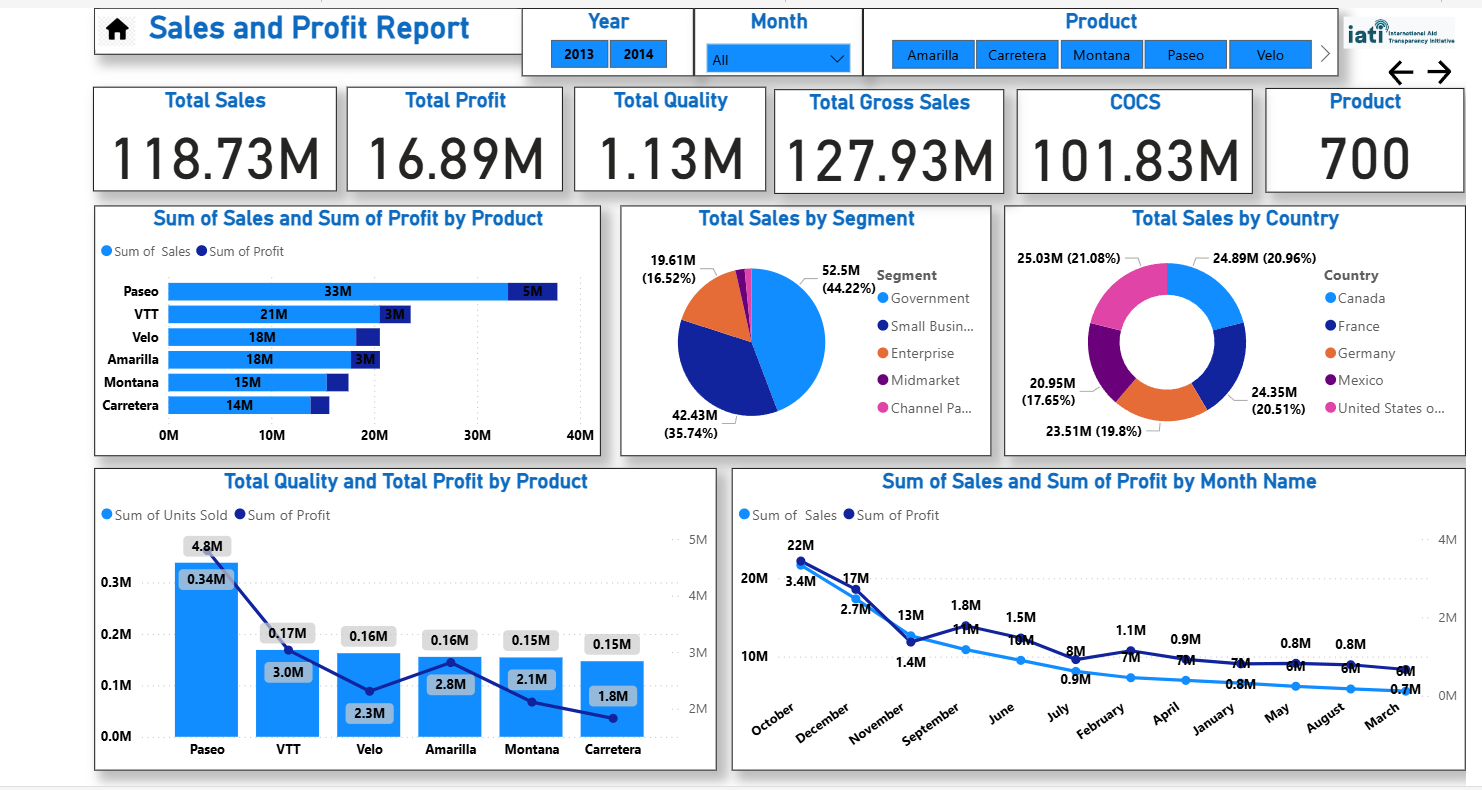

The dashboard page shown, as its layout file describes it:
{"tool":"powerbi","page":{"name":"Q9. Dashboard","canvas":[1280,720],"ordinal":9},"visuals":[{"type":"textbox","title":"Sales and Profit Report","box":[10.1,0,396.8,43.3],"z":0},{"type":"slicer","title":"Year","fields":{"Values":["financials.Year"]},"box":[406.3,0,159.4,63.5],"z":1000},{"type":"slicer","title":"Month","fields":{"Values":["financials.Month Name"]},"box":[565.7,0,155.8,63.5],"z":2000},{"type":"slicer","title":"Product","fields":{"Values":["financials.Product"]},"box":[721.5,0,439.9,63.5],"z":3000},{"type":"card","title":"Total Sales","fields":{"Values":["Sum(financials. Sales)"]},"box":[9.6,73.1,225.3,97.1],"z":4000},{"type":"card","title":"Total Profit","fields":{"Values":["Sum(financials.Profit)"]},"box":[244.5,73.1,200.1,97.1],"z":5000},{"type":"card","title":"Total Quality","fields":{"Values":["Sum(financials.Units Sold)"]},"box":[454.2,73.1,177.4,97.1],"z":6000},{"type":"card","title":"Product","fields":{"Values":["CountNonNull(financials.Product)"]},"box":[1094.7,73.5,183.8,96.5],"z":7000},{"type":"card","title":"COCS","fields":{"Values":["Sum(financials.COGS)"]},"box":[864.1,75.5,218.1,97.1],"z":8000},{"type":"barChart","fields":{"Category":["financials.Product"],"Y":["Sum(financials. Sales)","Sum(financials.Profit)"]},"box":[10.1,183.2,468.9,232.3],"z":9000},{"type":"pieChart","title":"Total Sales by Segment","fields":{"Category":["financials.Segment"],"Y":["Sum(financials. Sales)"]},"box":[497.8,183.2,343.4,232.3],"z":10000},{"type":"donutChart","title":"Total Sales by  Country","fields":{"Y":["Sum(financials. Sales)"],"Series":["financials.Country"]},"box":[852.7,183.2,427.1,232.3],"z":11000},{"type":"lineStackedColumnComboChart","title":"Total Quality and Total Profit by Product","fields":{"Category":["financials.Product"],"Y2":["Sum(financials.Profit)"],"Y":["Sum(financials.Units Sold)"]},"box":[10.1,425.6,575.7,279.9],"z":12000},{"type":"lineChart","fields":{"Category":["financials.Month Name"],"Y":["Sum(financials. Sales)"],"Y2":["Sum(financials.Profit)"]},"box":[600.2,425.6,679.5,279.9],"z":13000},{"type":"card","title":"Total Gross Sales","fields":{"Values":["Sum(financials.Gross Sales)"]},"box":[639.8,74.7,212.5,96.5],"z":14000},{"type":"actionButton","box":[1239.3,44.3,38.4,31.2],"z":15000},{"type":"image","box":[9.6,0,44.3,43.1],"z":16000},{"type":"image","box":[1161.3,1.2,113.9,43.1],"z":17000},{"type":"actionButton","box":[1204.5,44.3,34.8,32.4],"z":18000}]}

Visuals, with their boxes on the page's 1280x720 design canvas (x1, y1, x2, y2). These are canvas units, not pixel positions in the 1482x790 screenshot, which may show the page scaled, cropped or inside an application window:
"Sales and Profit Report" textbox: select_region(10, 0, 407, 43)
"Year" slicer: select_region(406, 0, 566, 64)
"Month" slicer: select_region(566, 0, 722, 64)
"Product" slicer: select_region(722, 0, 1161, 64)
"Total Sales" card: select_region(10, 73, 235, 170)
"Total Profit" card: select_region(244, 73, 445, 170)
"Total Quality" card: select_region(454, 73, 632, 170)
"Product" card: select_region(1095, 74, 1278, 170)
"COCS" card: select_region(864, 76, 1082, 173)
barChart - financials.Product x Sum(financials. Sales): select_region(10, 183, 479, 416)
"Total Sales by Segment" pieChart: select_region(498, 183, 841, 416)
"Total Sales by  Country" donutChart: select_region(853, 183, 1280, 416)
"Total Quality and Total Profit by Product" lineStackedColumnComboChart: select_region(10, 426, 586, 706)
lineChart - financials.Month Name x Sum(financials. Sales): select_region(600, 426, 1280, 706)
"Total Gross Sales" card: select_region(640, 75, 852, 171)
actionButton: select_region(1239, 44, 1278, 76)
image: select_region(10, 0, 54, 43)
image: select_region(1161, 1, 1275, 44)
actionButton: select_region(1204, 44, 1239, 77)
